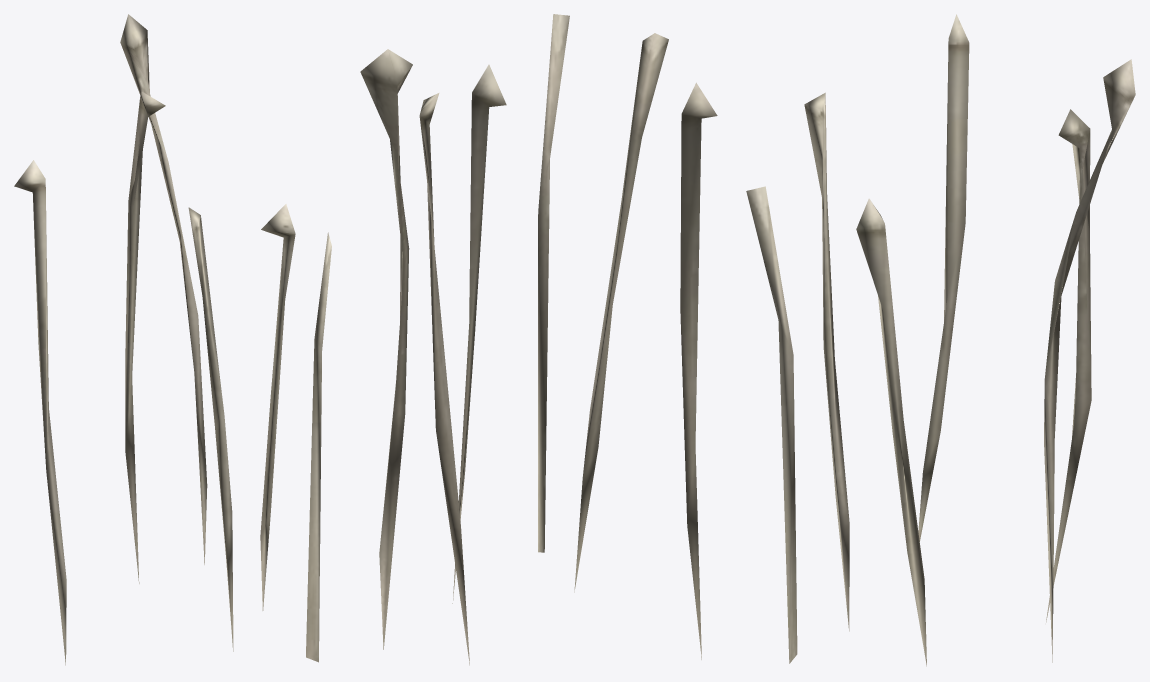
File: mushgrass_e_far.glb
3 renders of one model, left to right at view 1: azimuth 30°, elevation 25°; view 2: azimuth 150°, elevation 25°; view 3: azimuth 270°, elevation 25°, orthographic. The views are drawn at different scales.
Visible parts, largest first — view 1: mushgrass; view 2: mushgrass; view 3: mushgrass.
Boxes of the visible parts, left/top/right/bottom form: mushgrass: left=14, top=14, right=331, bottom=665; mushgrass: left=360, top=14, right=717, bottom=665; mushgrass: left=746, top=14, right=1135, bottom=666.
Bounding box in the file's own units: 0.0816 × 0.1777 × 0.1066.
Materials: 1 (1 with a texture image).
